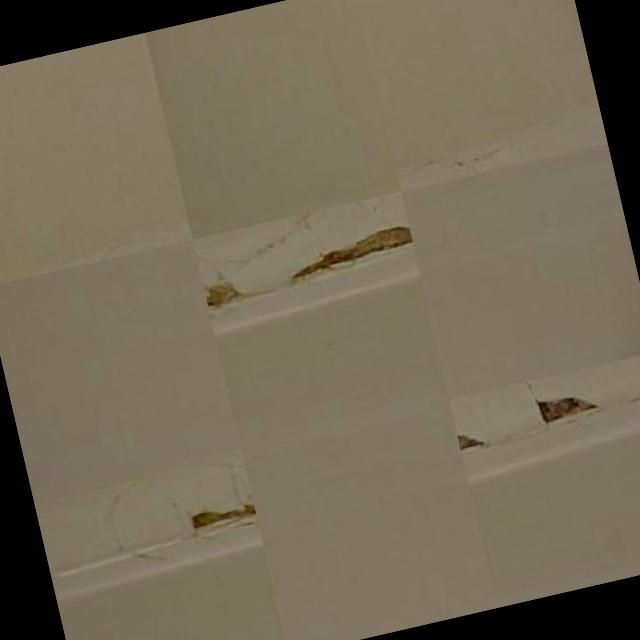crack: (492, 385, 640, 448), (232, 212, 314, 262), (396, 150, 488, 185)
